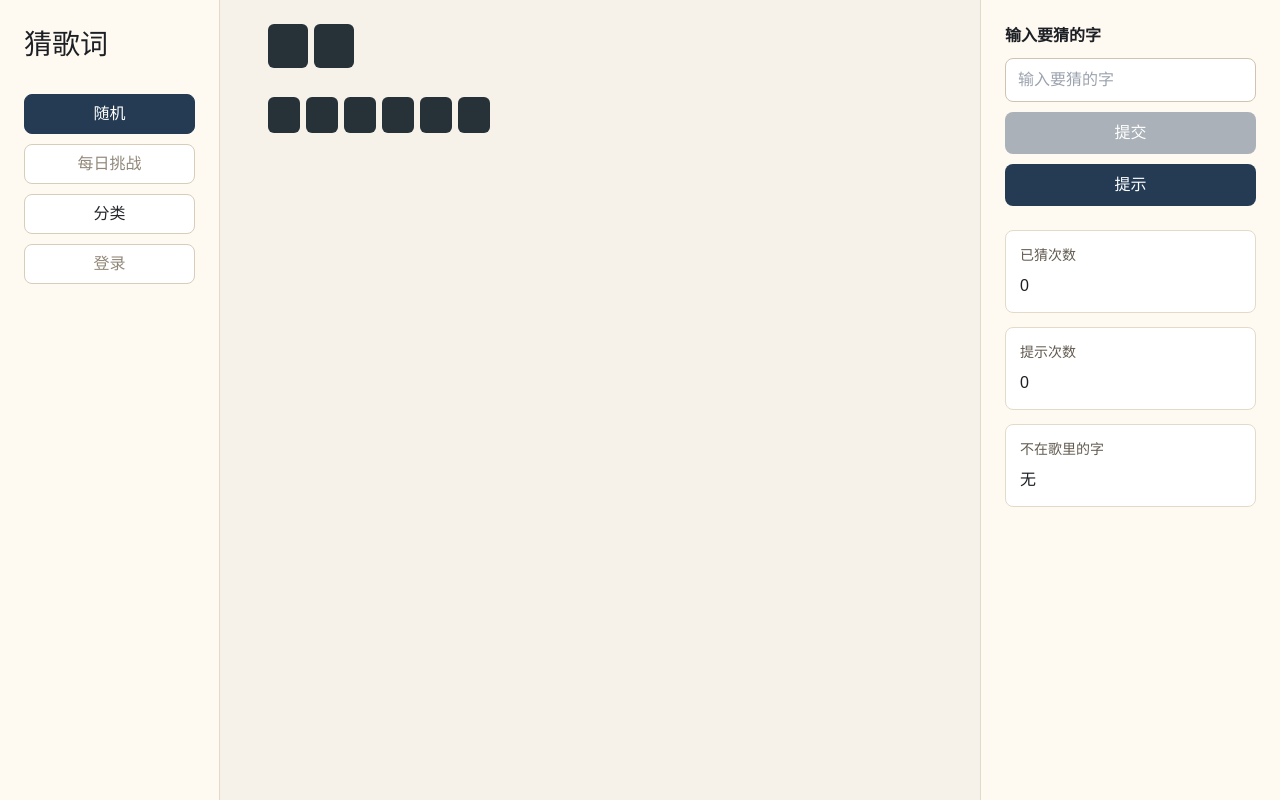
it: LyricGame › starts a fresh random round from the left nav and clears previous guesses
Type "晴" into the field labelled "输入要猜的字".
click(1130, 80); type("晴")  # box [1005, 58, 1256, 102]
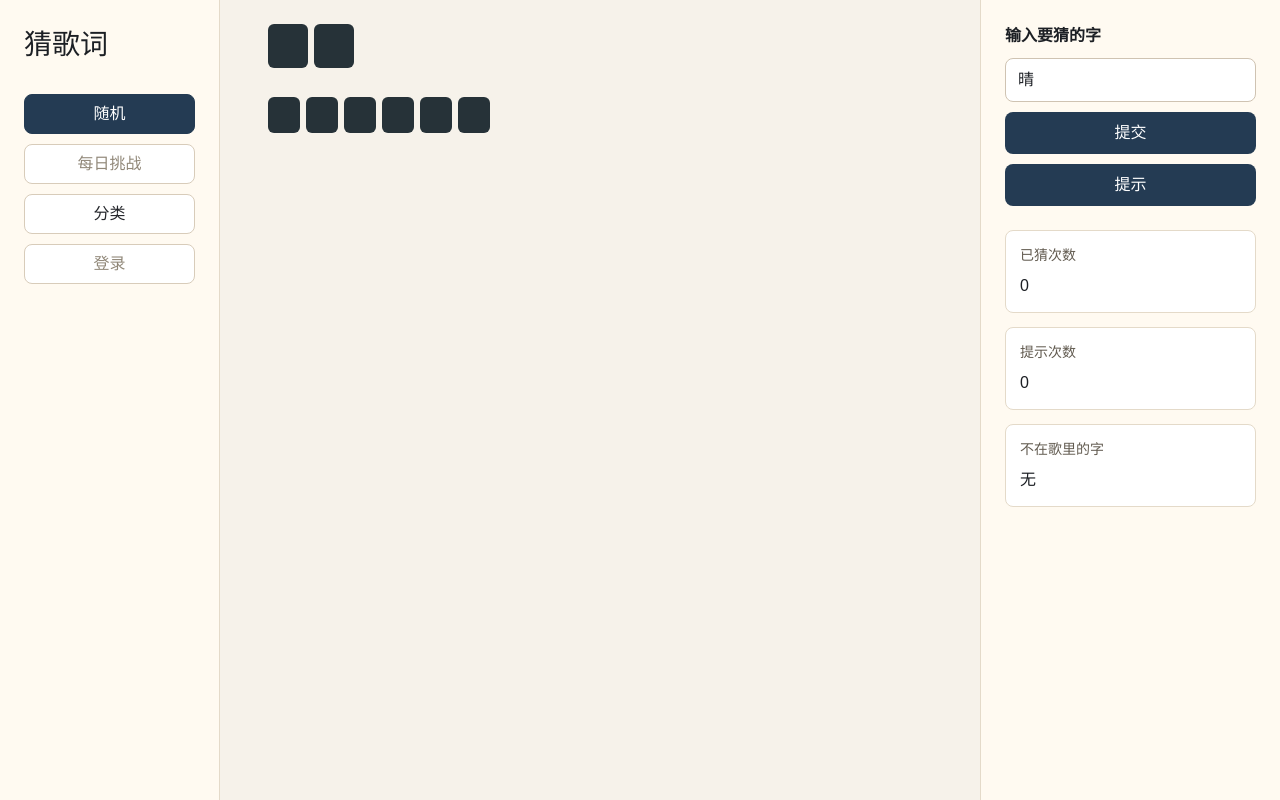
Click the button "提交".
click(1130, 133)  # box [1005, 112, 1256, 154]
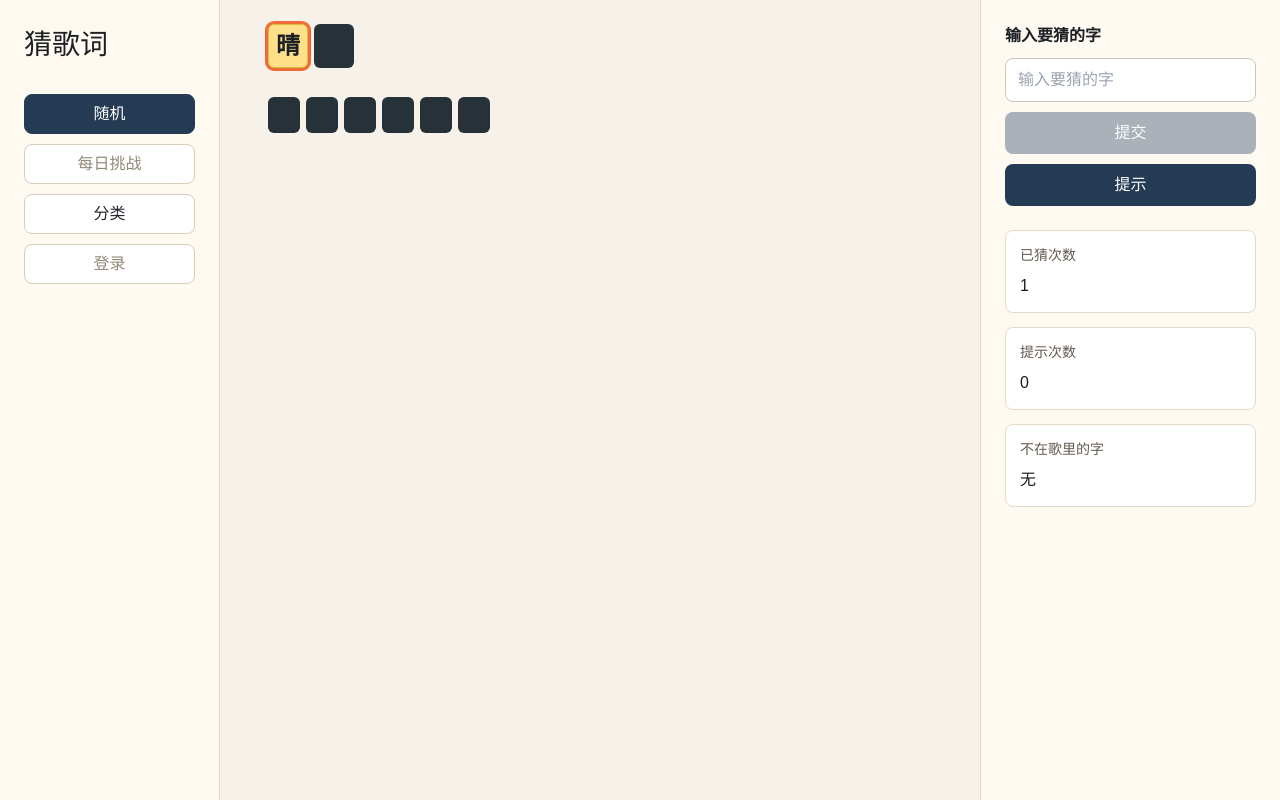
Result: the text "晴" is shown at [268, 24, 308, 68]
Result: the text "1" is shown at [1020, 277, 1029, 294]
Click the button "随机".
click(110, 114)  # box [24, 94, 195, 134]
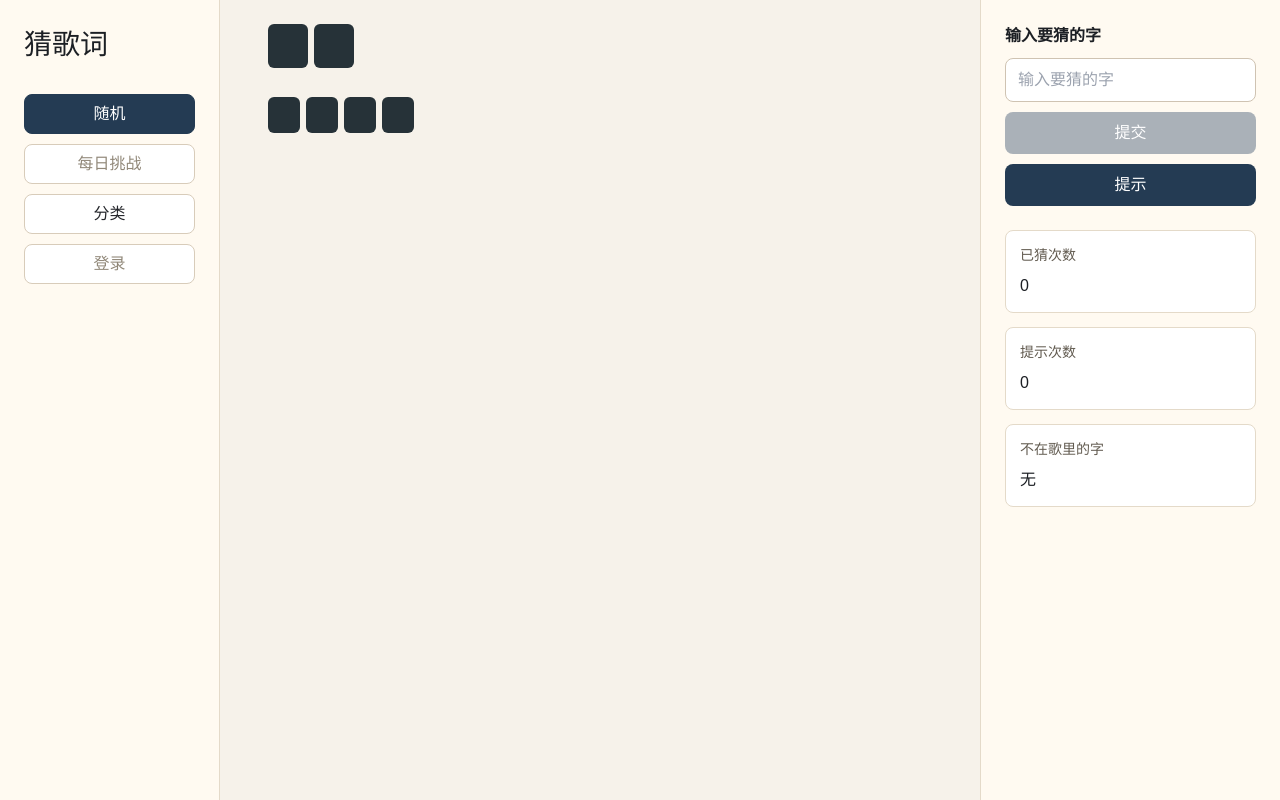
Result: the text "晴" is gone
Result: the text "1" below "已猜次数" reads "0" at [1020, 277, 1029, 294]
Type "花海" into the field labelled "输入要猜的字".
click(1130, 80); type("花海")  # box [1005, 58, 1256, 102]
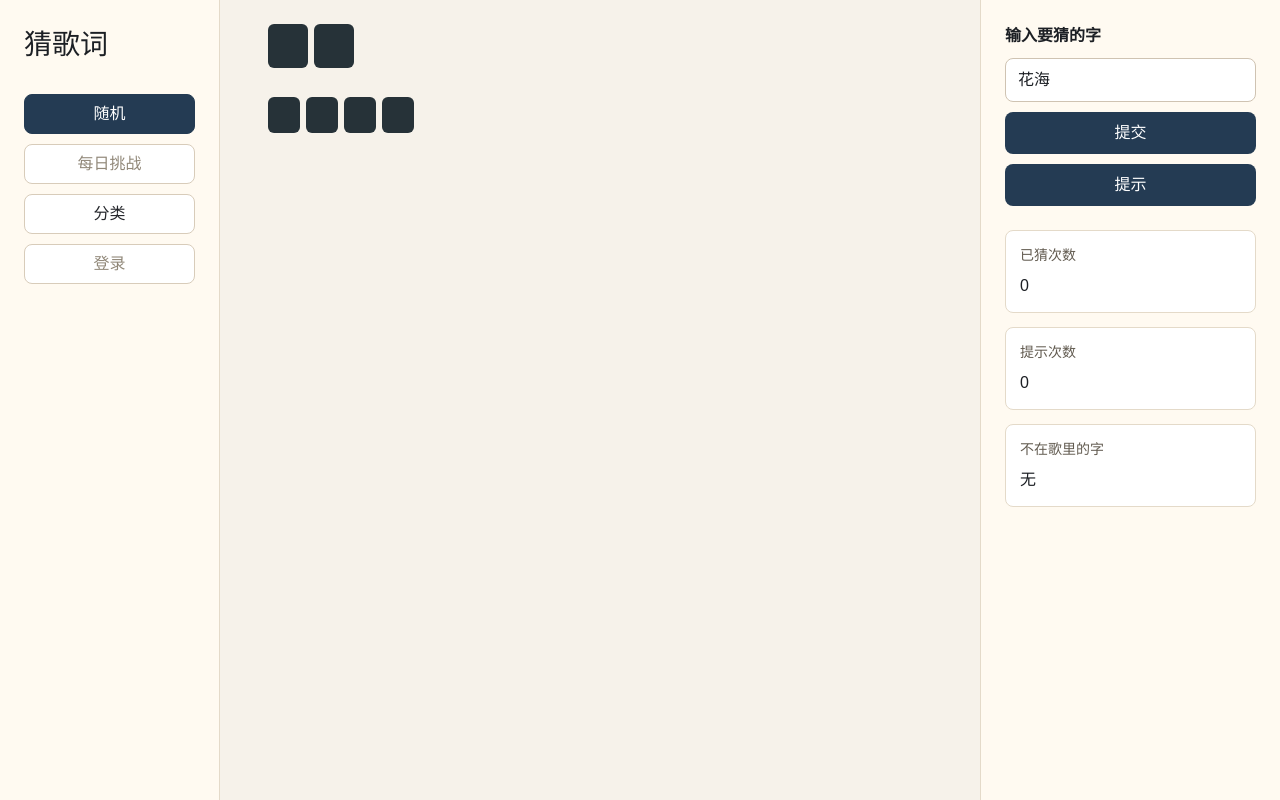
Click the button "提交".
click(1130, 133)  # box [1005, 112, 1256, 154]
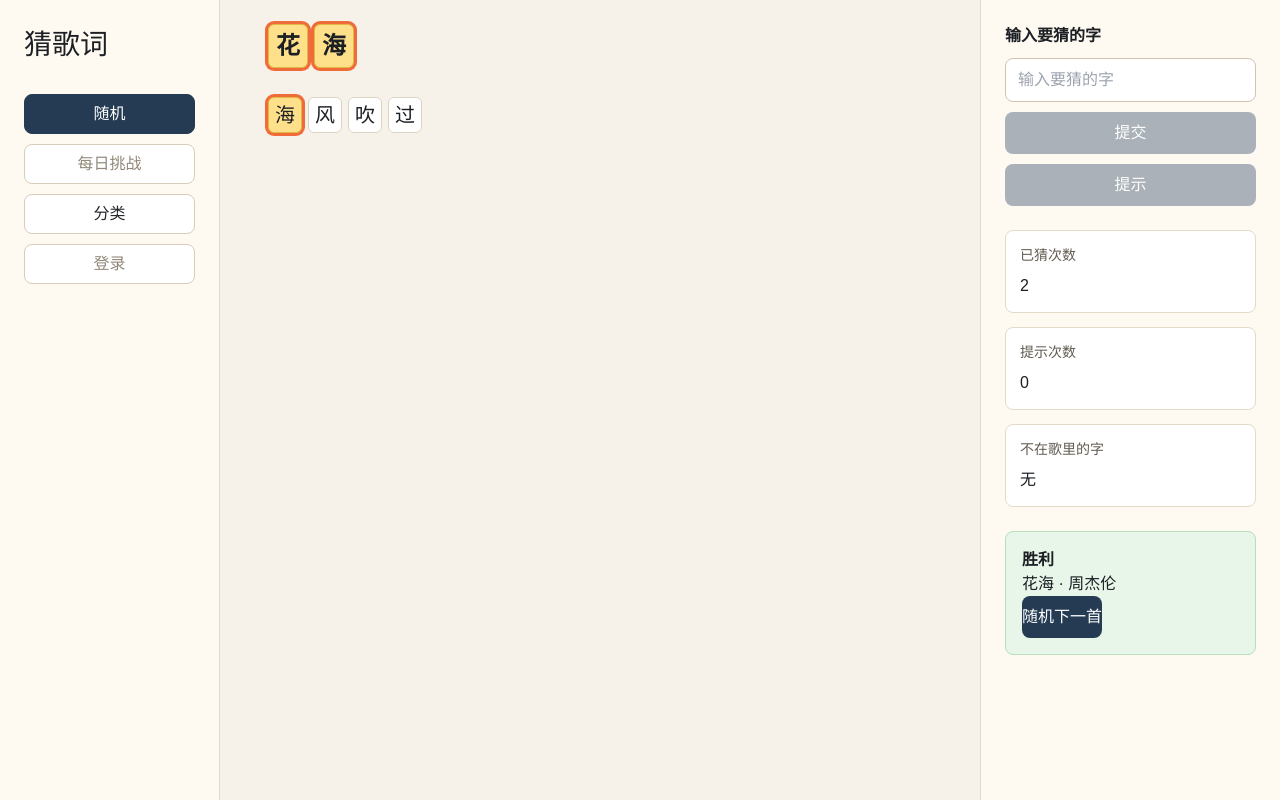
Result: the text "胜利" is shown at [1022, 551, 1054, 568]
